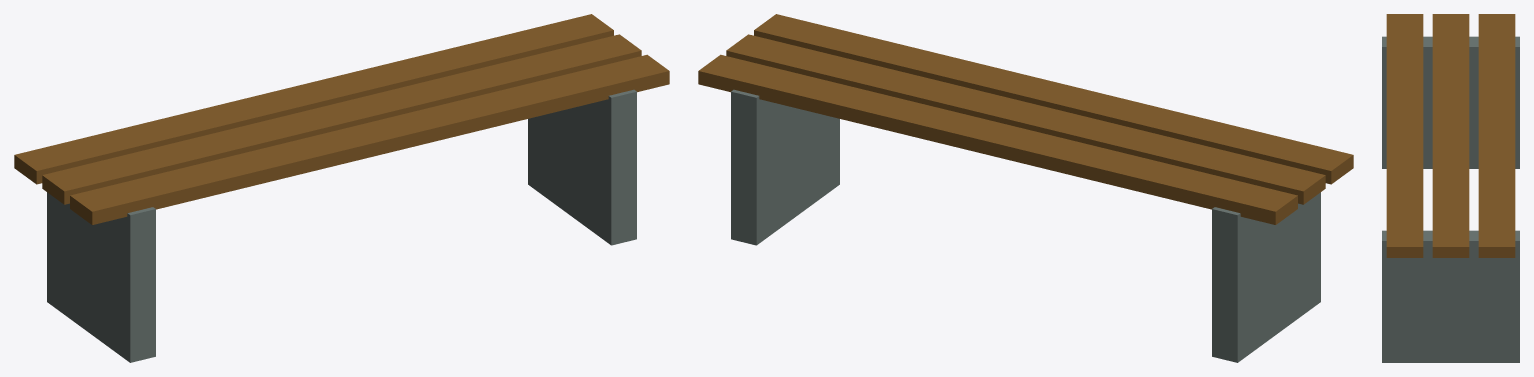
The model's file is SM_Banco_v2_LOD0.fbx.
3 renders of one model, left to right at view 1: azimuth 30°, elevation 25°; view 2: azimuth 150°, elevation 25°; view 3: azimuth 270°, elevation 25°, orthographic. The views are drawn at different scales.
Parts seen in each view (by area): view 1: SM_urbano_v12_LOD0; view 2: SM_urbano_v12_LOD0; view 3: SM_urbano_v12_LOD0.
Part boxes in pixels (<box>): SM_urbano_v12_LOD0: <box>14,14,669,362</box>; SM_urbano_v12_LOD0: <box>698,14,1353,362</box>; SM_urbano_v12_LOD0: <box>1382,14,1519,362</box>.
Size of the model in its own units: 1.8 by 0.47 by 0.45.
